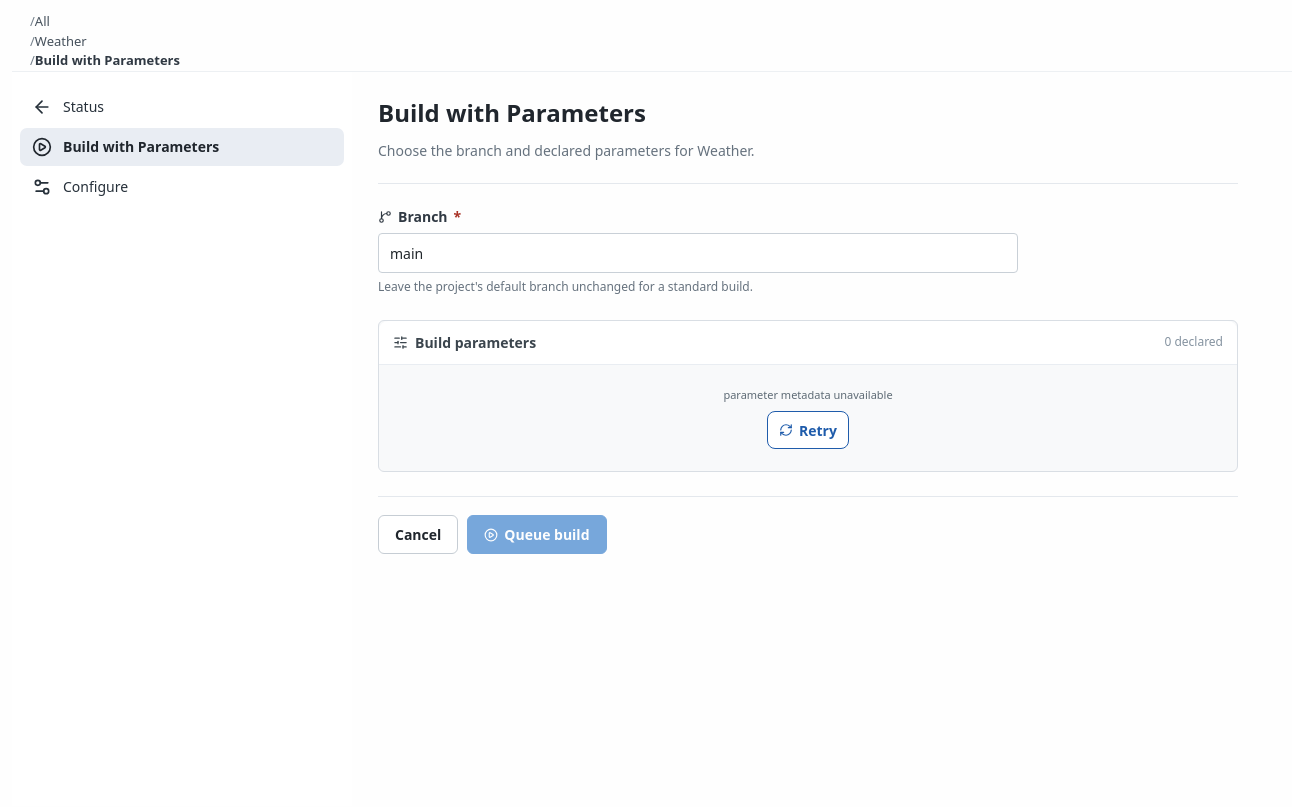
ProjectBuildWithParameters › blocks submission after metadata failure and supports an explicit retry
Expected: the message with class "run-parameter-failure" shows "parameter metadata unavailable", [723, 387, 893, 402]
Expected: the submit button is disabled, [467, 515, 606, 554]
Click the button "Retry" at [808, 430], box [767, 411, 849, 449]
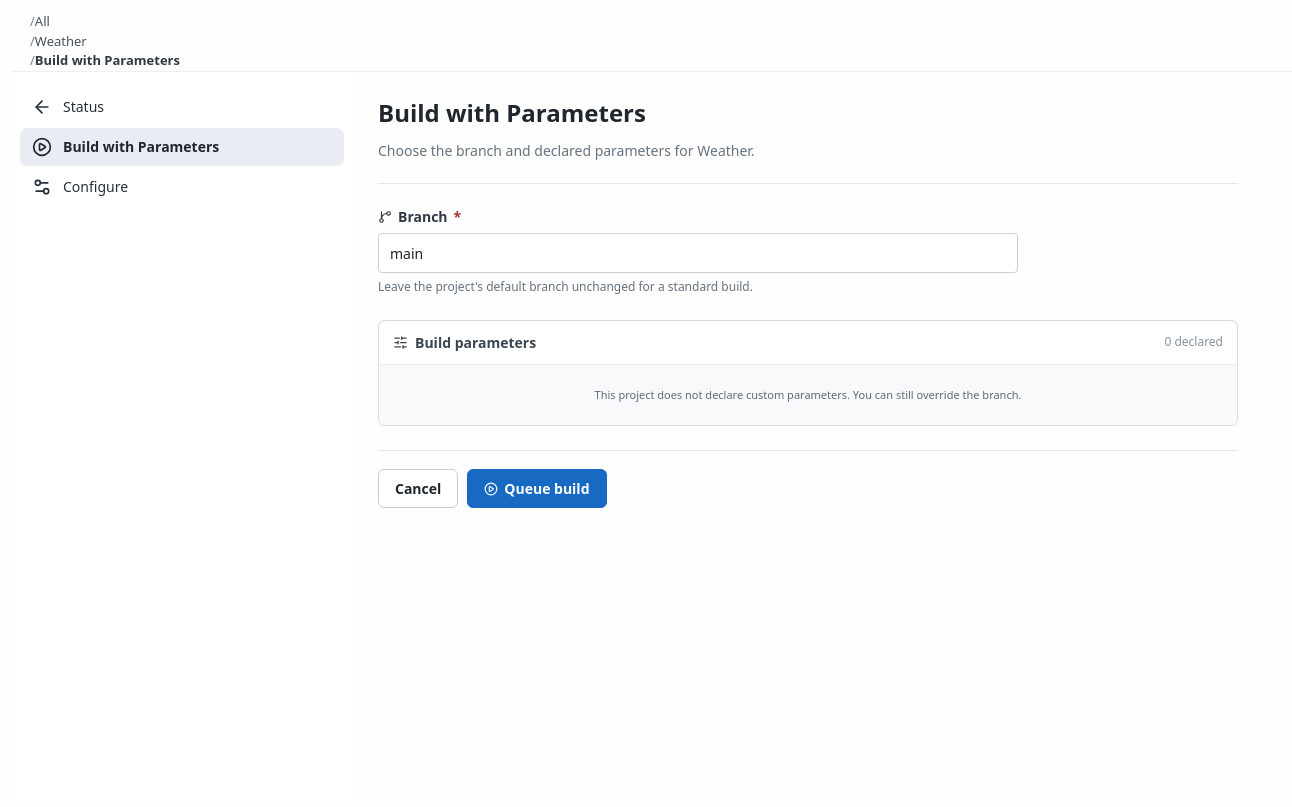
Result: the submit button is enabled at [467, 469, 606, 508]
